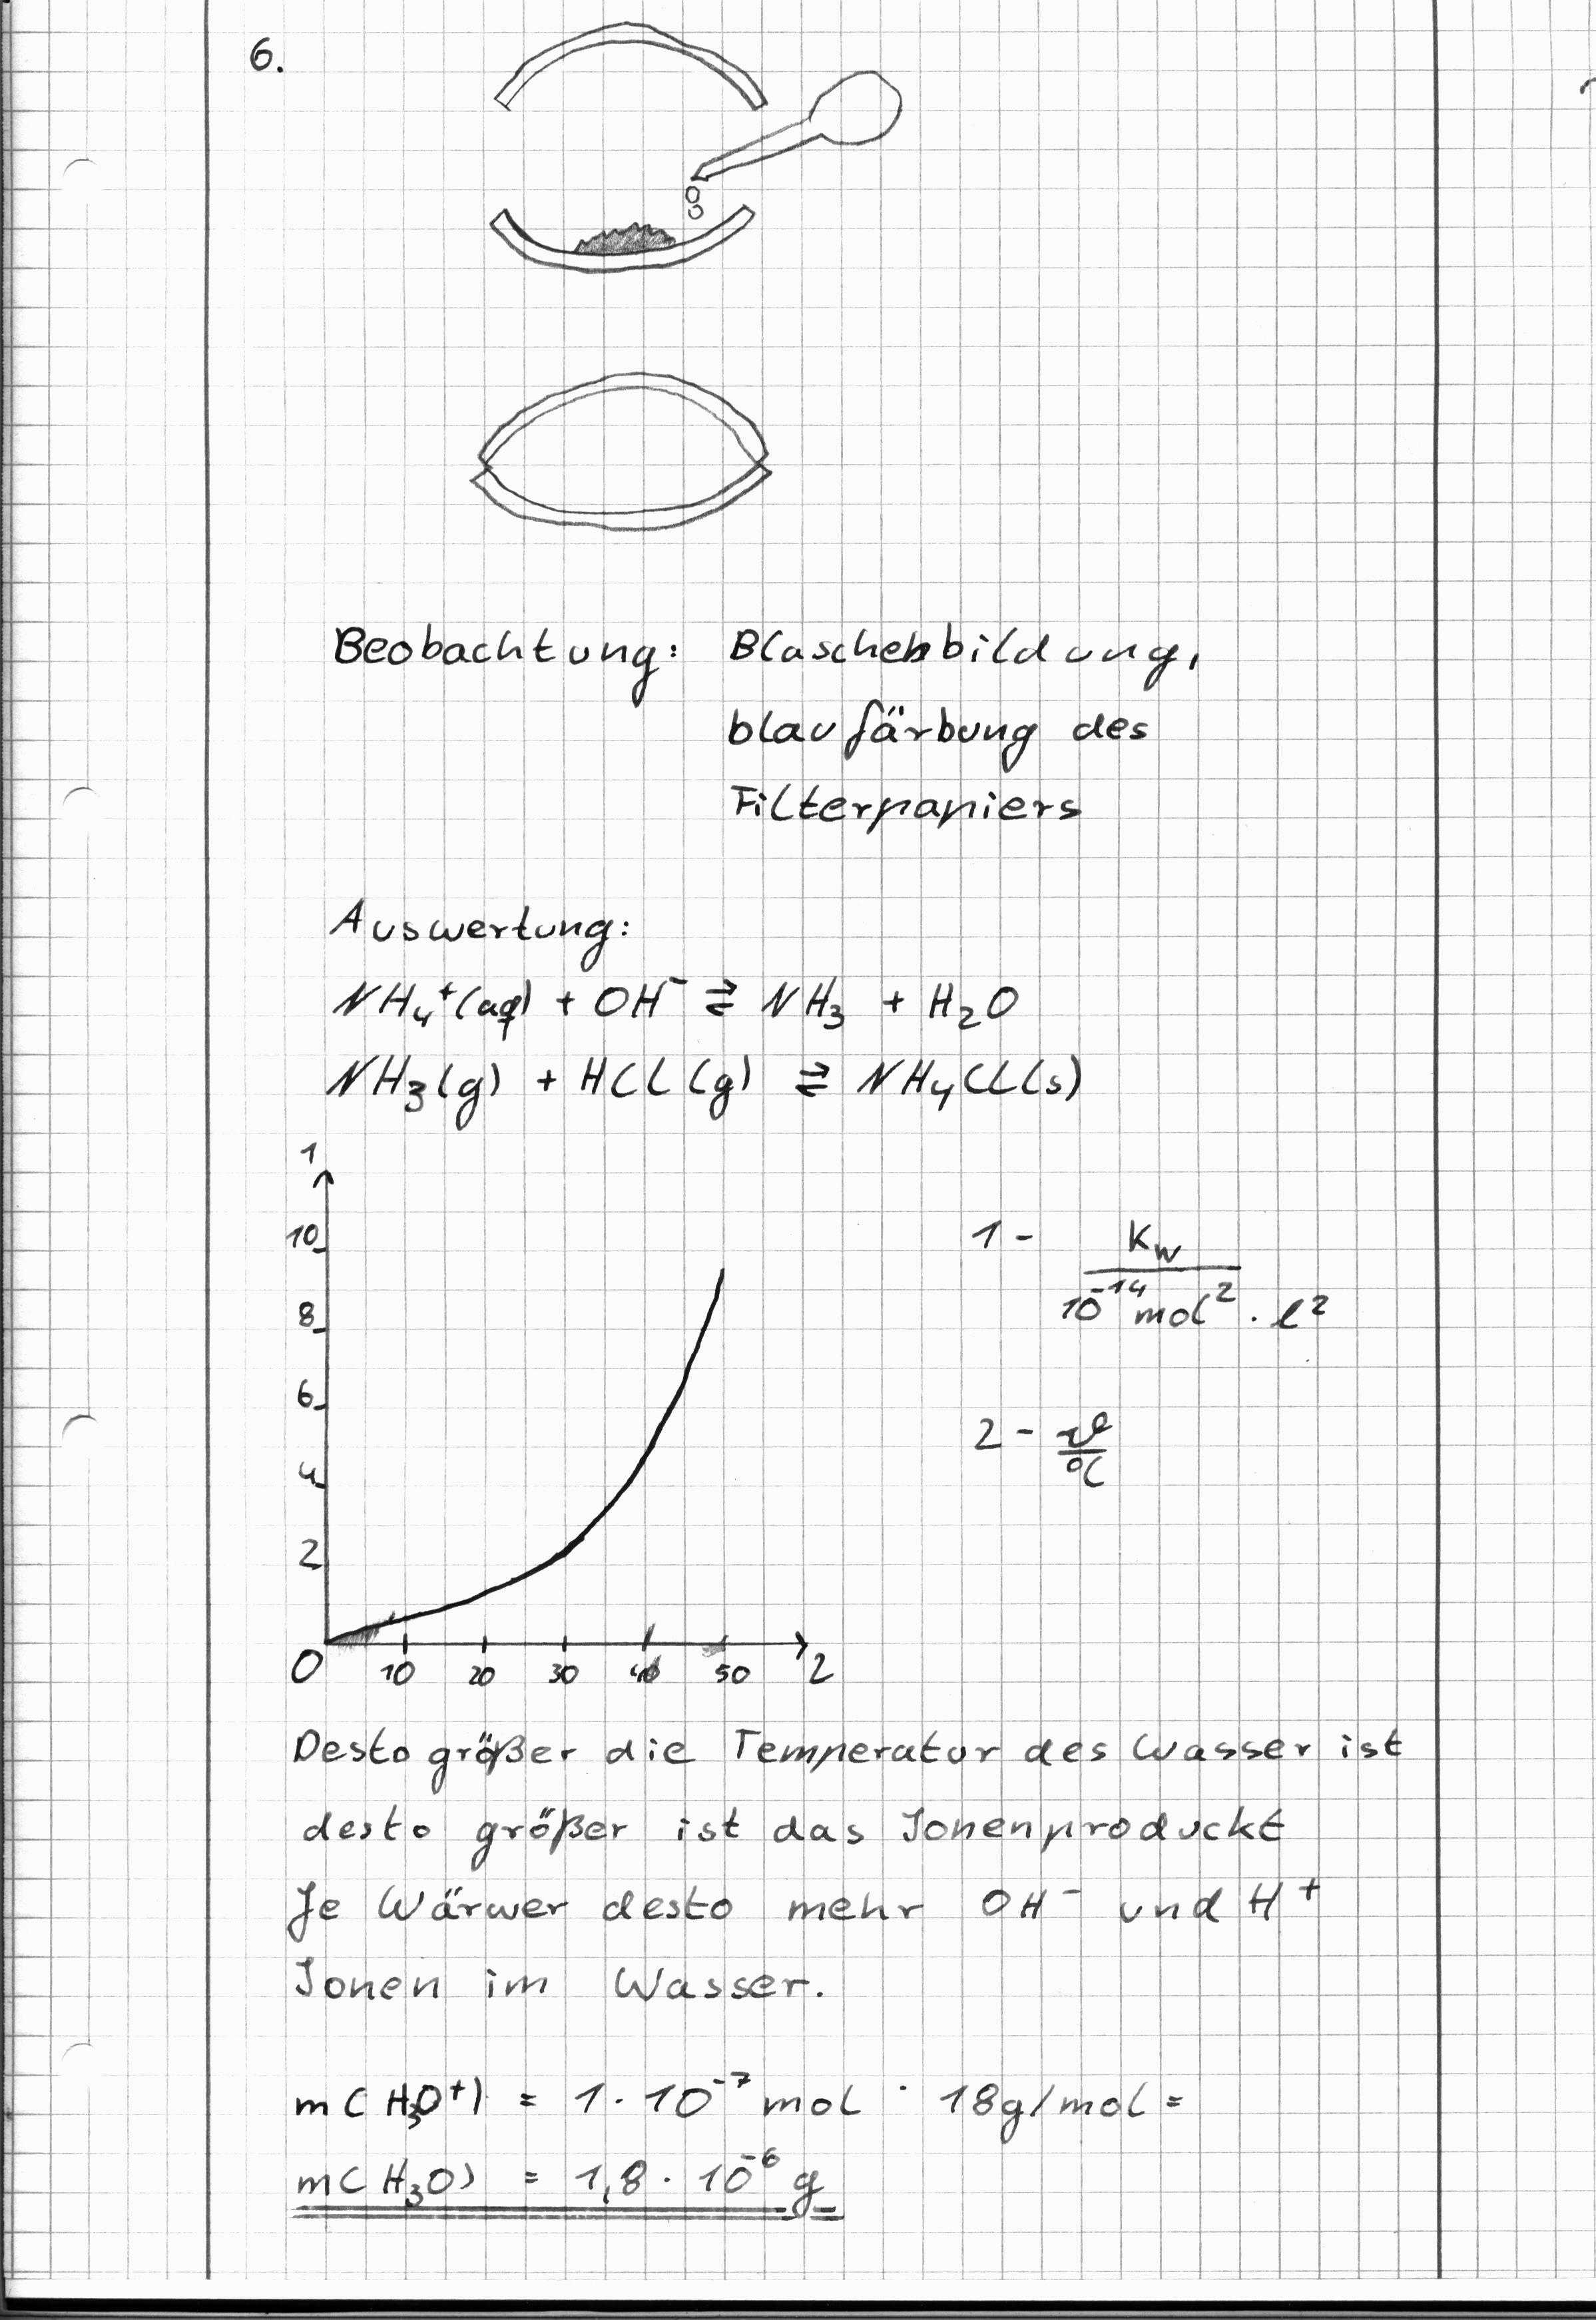word: (276, 1711, 1413, 2012), (322, 970, 1087, 1141), (715, 603, 1208, 846), (285, 2063, 872, 2245), (959, 1201, 1334, 1347), (322, 607, 688, 721), (320, 888, 637, 978), (894, 2067, 1194, 2148), (964, 1385, 1128, 1510)
